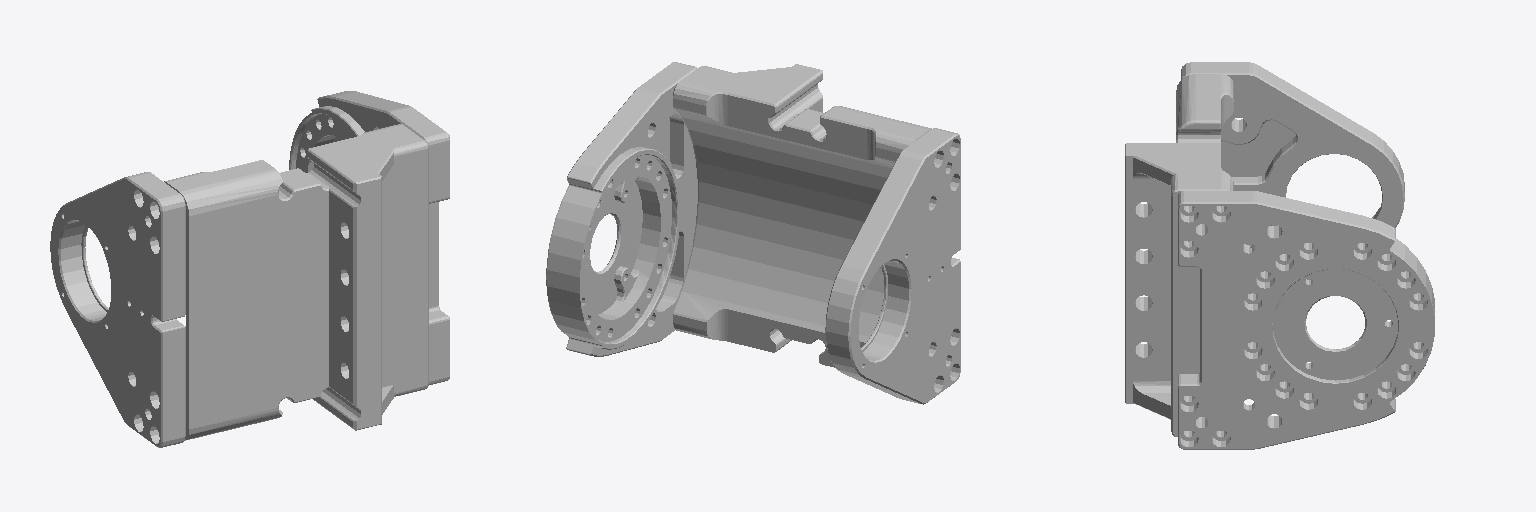
The model's file is waist_roll_link.obj.
The picture shows the model from 3 angles: view 1: azimuth 30°, elevation 25°; view 2: azimuth 150°, elevation 25°; view 3: azimuth 270°, elevation 25°; orthographic projection.
Parts seen in each view (by area): view 1: waist_roll_link; view 2: waist_roll_link; view 3: waist_roll_link.
Boxes of the visible parts, box(x1,y1,x2,y2) form: waist_roll_link: box(50, 91, 449, 447); waist_roll_link: box(546, 62, 960, 404); waist_roll_link: box(1125, 62, 1434, 449).
Size of the model in its own units: 0.1033 by 0.085 by 0.0964.